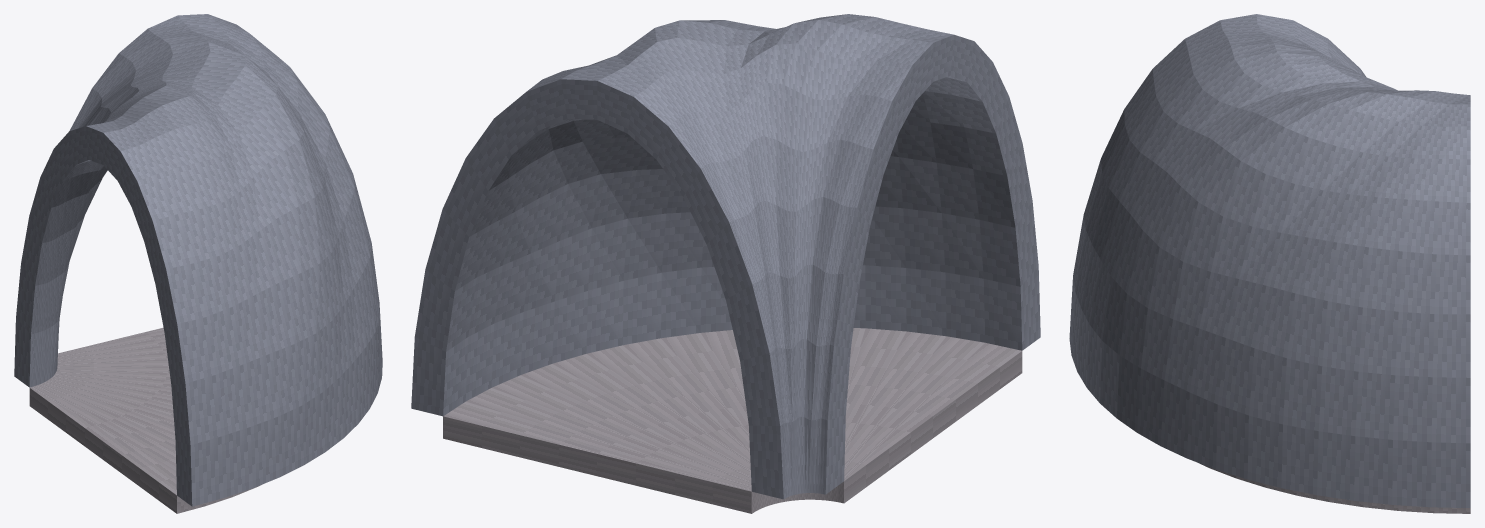
Rendered from cave-and-crystal-networks-tunnel-bend-left-3777ea40.glb.
The picture shows the model from 3 angles, left to right: view 1: azimuth 30°, elevation 25°; view 2: azimuth 150°, elevation 25°; view 3: azimuth 270°, elevation 25°; orthographic projection. The views are drawn at different scales.
Visible parts, largest first — view 1: tunnel-bend-left; view 2: tunnel-bend-left; view 3: tunnel-bend-left.
Boxes of the visible parts, x1=… form: tunnel-bend-left: x1=14, y1=14, x2=382, y2=513; tunnel-bend-left: x1=411, y1=14, x2=1040, y2=513; tunnel-bend-left: x1=1069, y1=14, x2=1470, y2=513.
Size of the model in its own units: 3.75 by 3.61 by 3.75.
2 materials, 2 textured.
